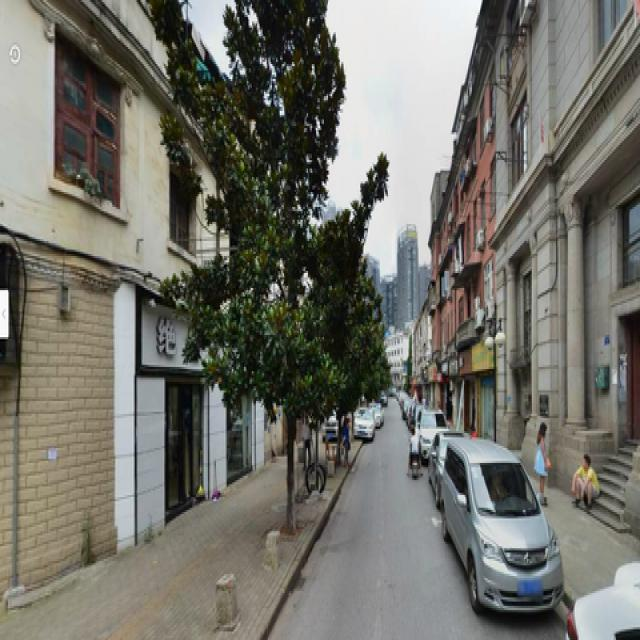magn: (207, 2, 349, 516)
